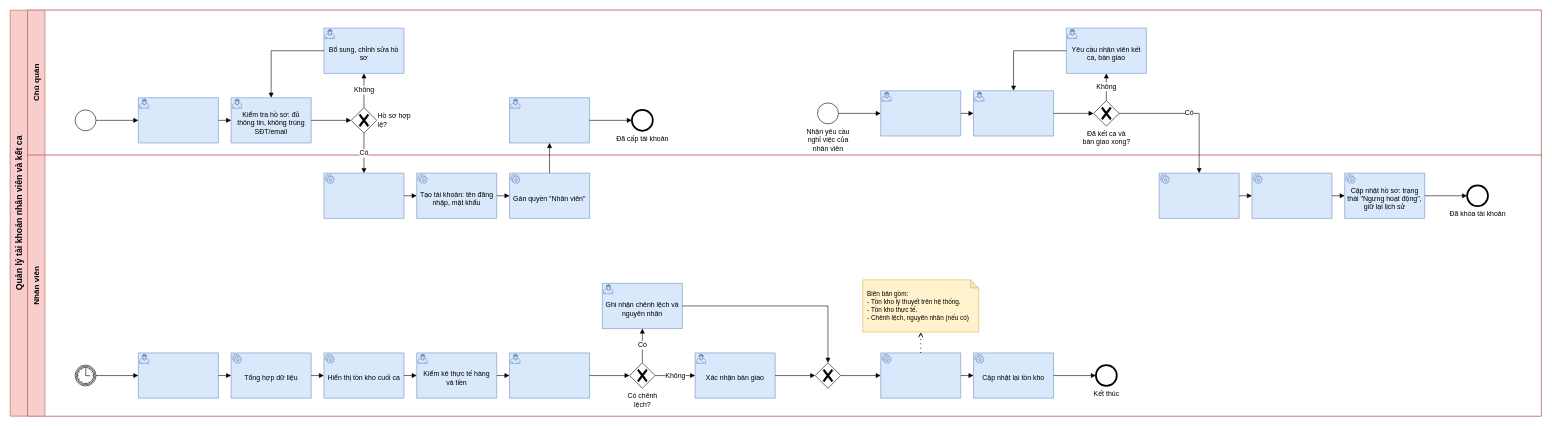
Image size: 1552x426. Some labels were removed from this diagram. Each missing label, with the centre of its shape:
"Bàn giao tài khoản và mật khẩu cho nhân viên" goes at (x=549, y=120).
"Chọn chức năng kết thúc ca" goes at (x=178, y=375).
"Dò soát và nhập số liệu thực tế vào hệ thống" goes at (x=549, y=375).
"Khóa tài khoản ngay" goes at (x=1199, y=195).
"Kiểm tra nhân viên đã kết ca và bàn giao xong" goes at (x=1013, y=113).
"Lưu biên bản bàn giao" goes at (x=920, y=375).
"Lưu hồ sơ nhân sự" goes at (x=363, y=195).
"Nhận nhân viên mới" goes at (x=85, y=120).
"Thu hồi quyền, đăng xuất mọi phiên đăng nhập" goes at (x=1291, y=195).
"Thu thập hồ sơ: họ tên, ngày sinh, SĐT, email" goes at (x=178, y=120).
"Xác nhận yêu cầu và ngày nghỉ việc" goes at (x=920, y=113).
"Đến giờ kết ca" goes at (x=85, y=375).
